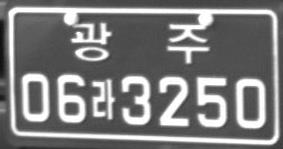0: (234, 76, 267, 130), (20, 71, 51, 123)
2: (158, 75, 190, 127)
3: (120, 74, 152, 126)
5: (195, 75, 228, 128)
6: (55, 73, 87, 124)
광주_D: (71, 21, 210, 65)
라: (90, 78, 114, 120)
